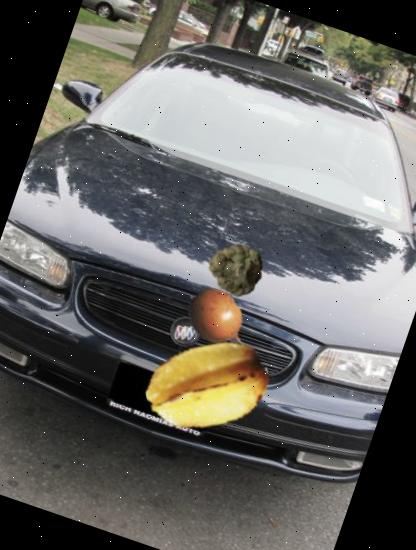Carambula: (128, 306, 287, 465)
Cauliflower: (202, 234, 272, 306)
Granadilla: (172, 274, 266, 368)
